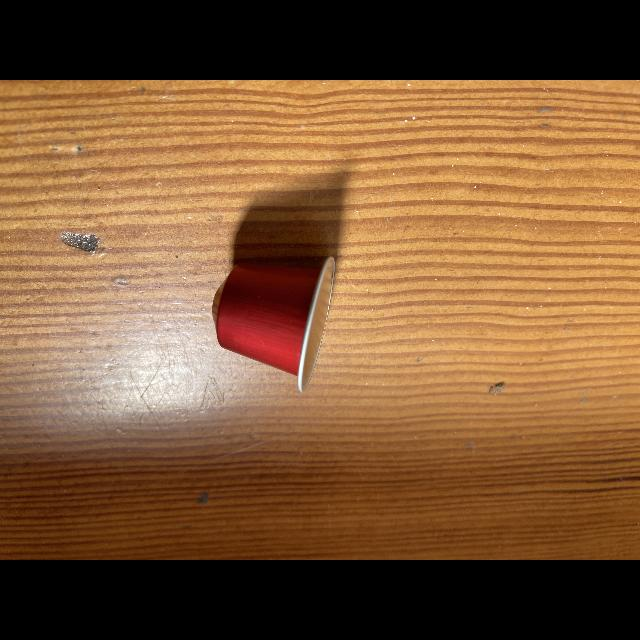intact_capsule: (198, 248, 360, 404)
